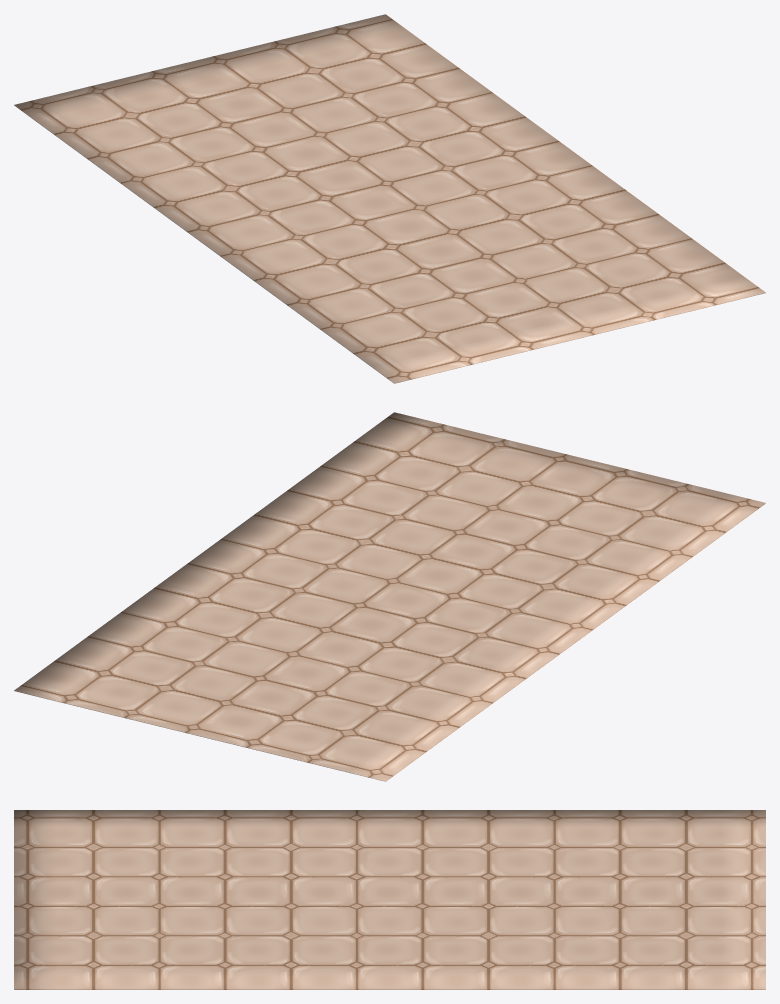
File: kitchenFloor.fbx
3 renders of one model, top to bottom at view 1: azimuth 30°, elevation 25°; view 2: azimuth 150°, elevation 25°; view 3: azimuth 270°, elevation 25°, orthographic.
Parts seen in each view (by area): view 1: kitchenettefloor; view 2: kitchenettefloor; view 3: kitchenettefloor.
Part boxes in pixels (x1,y1,x2,y2): kitchenettefloor: (14,14,765,383); kitchenettefloor: (14,412,765,781); kitchenettefloor: (14,810,765,989).
Bounding box in the file's own units: 600 × 0.9992 × 1064.
